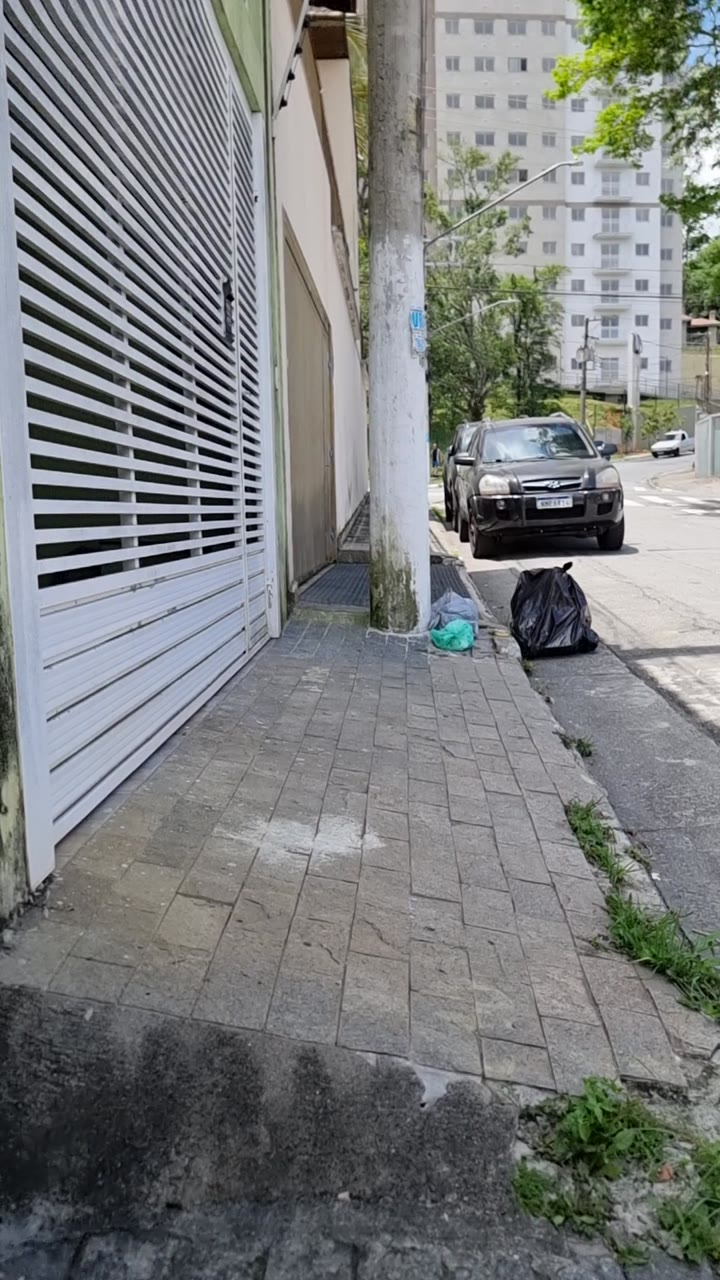obstaculo: (360, 0, 446, 614), (511, 563, 598, 658), (432, 576, 482, 653)
